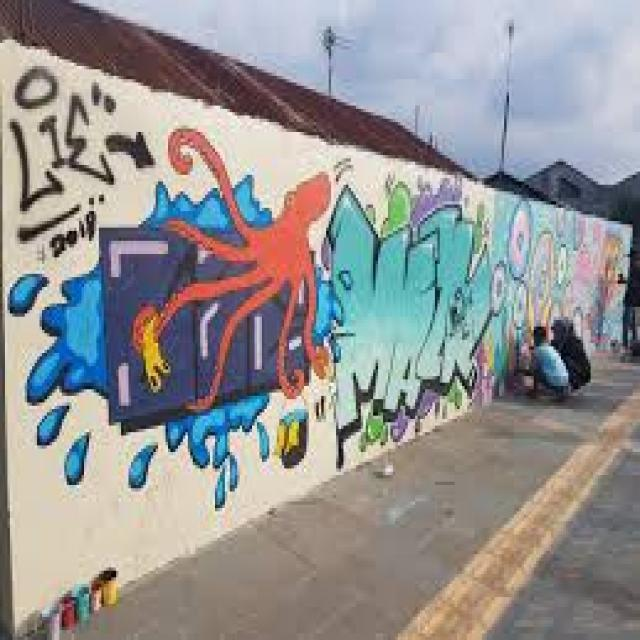-: (7, 126, 356, 512), (324, 170, 494, 470), (10, 64, 158, 262), (495, 188, 631, 396)
